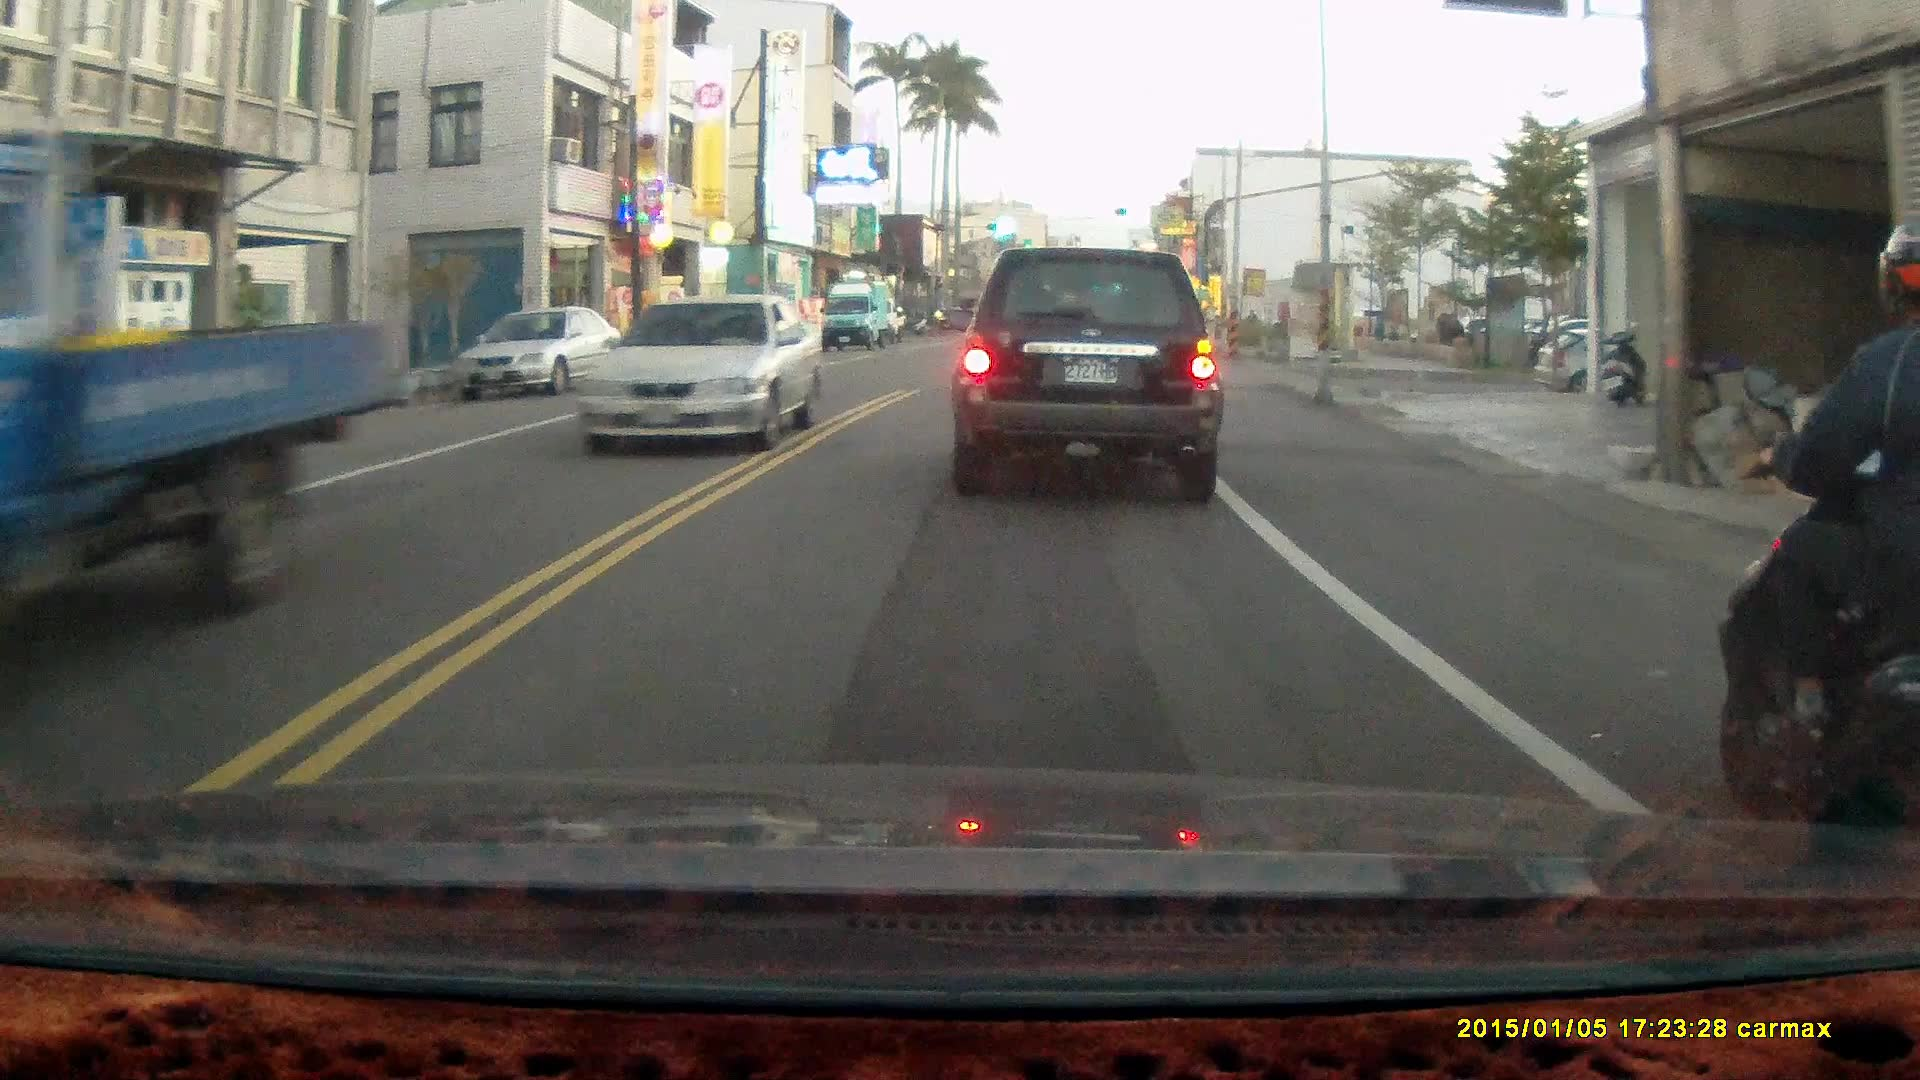rider: (1712, 212, 1919, 897)
vehicle: (1, 193, 385, 657), (948, 242, 1226, 497), (575, 289, 821, 458), (447, 306, 624, 399), (1530, 326, 1734, 404), (821, 281, 899, 355)
